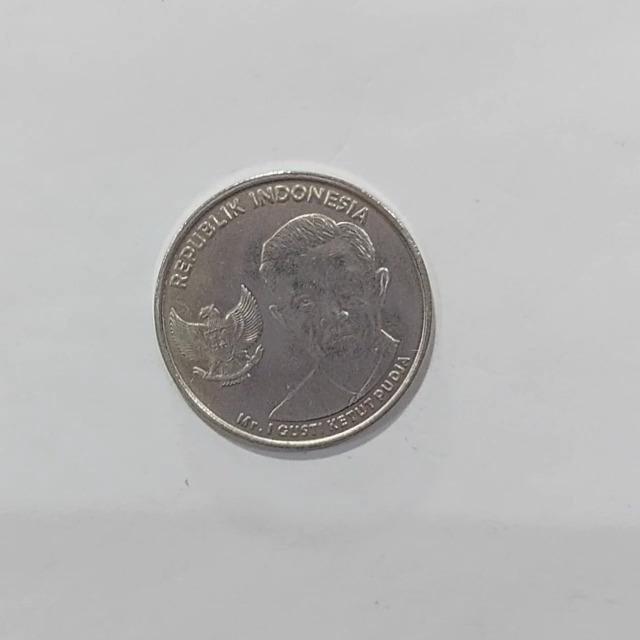Rp100: (153, 168, 436, 455)
